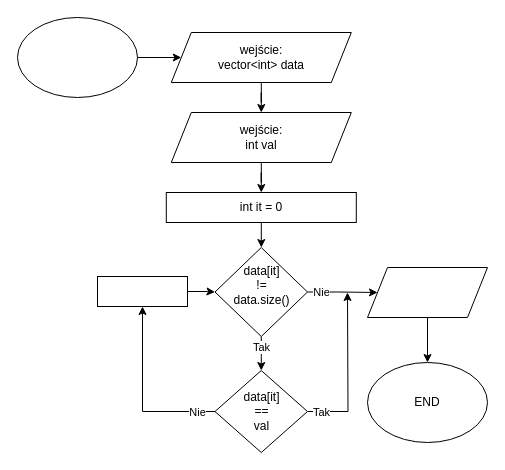
Some shapes in this 505 by 470 pixel diagram are drawn without their labels. Here are the shapes that lost their labels. From the top down, the centre of each, then its label:
pixel 77 57: START
pixel 142 291: it = it + 1
pixel 427 292: wyjście: it
